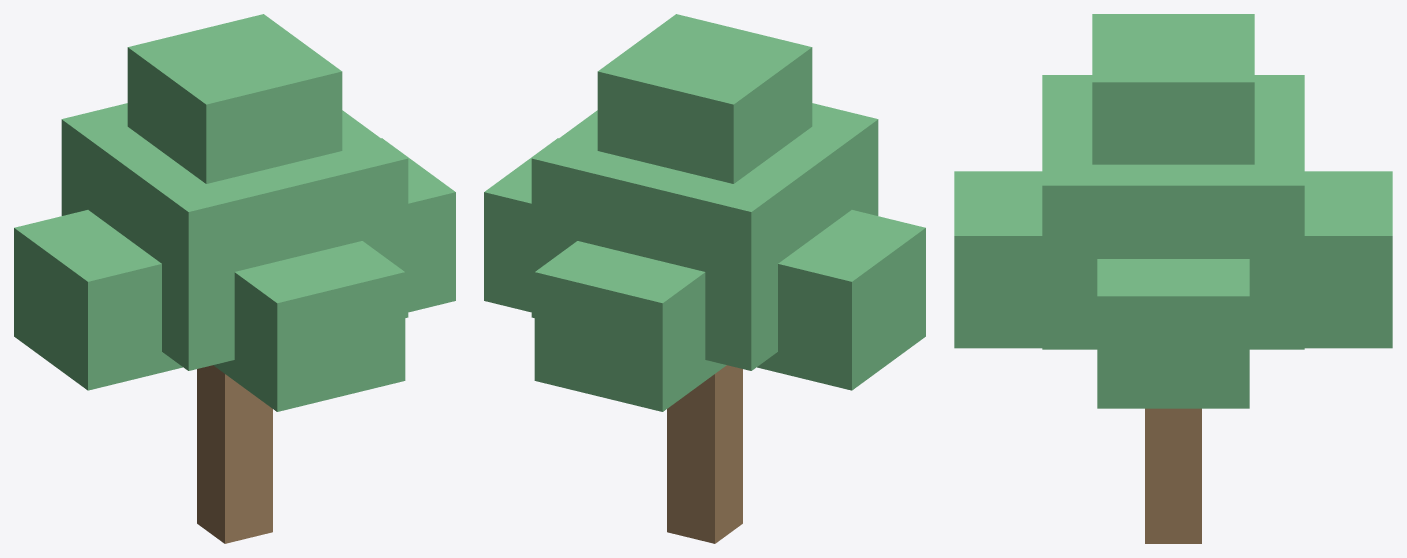
Rendered from Prop_DS_Tree_02.glb.
The picture shows the model from 3 angles, left to right: view 1: azimuth 30°, elevation 25°; view 2: azimuth 150°, elevation 25°; view 3: azimuth 270°, elevation 25°; orthographic projection. The views are drawn at different scales.
Parts seen in each view (by area): view 1: Prop_DS_Tree_02; view 2: Prop_DS_Tree_02; view 3: Prop_DS_Tree_02.
Part boxes in pixels (<box>): Prop_DS_Tree_02: <box>14,14,455,543</box>; Prop_DS_Tree_02: <box>484,14,925,543</box>; Prop_DS_Tree_02: <box>954,14,1392,543</box>.
Size of the model in its own units: 2.3 by 2.8 by 2.3.
